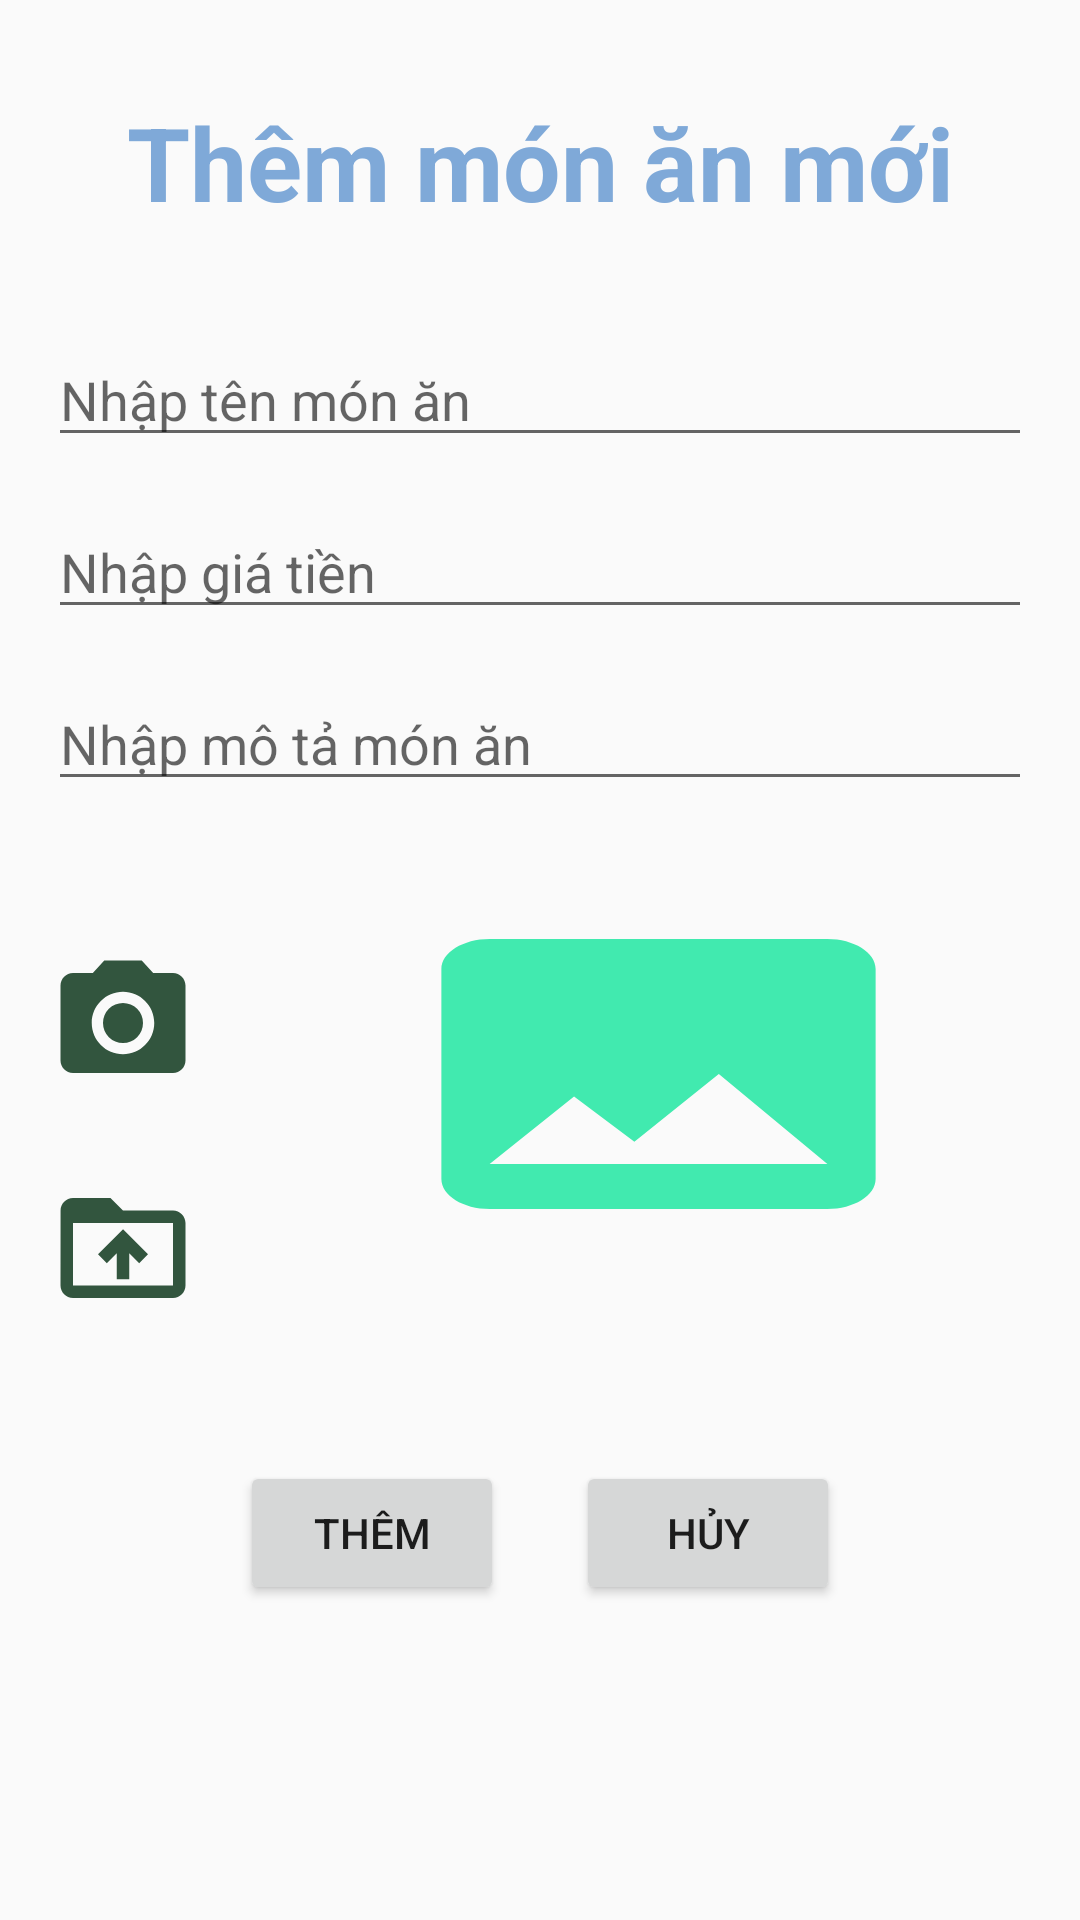

Icon click points for this 1080x1920 phone screenshot, format (x,y):
folder upload: (123,1248)
photo camera: (123,1016)
